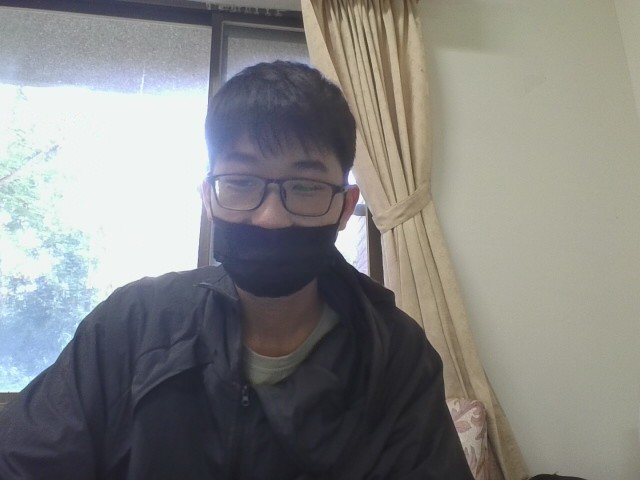No_Helmet: (197, 54, 361, 235)
person: (0, 42, 527, 479)
